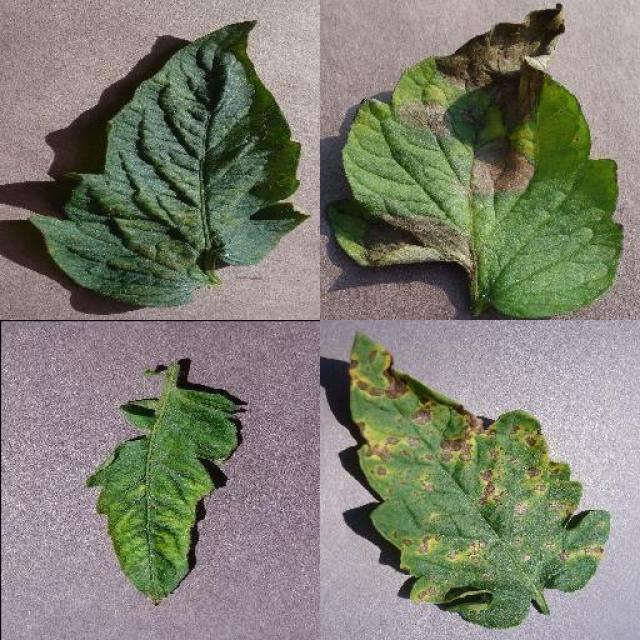Late Blight: (325, 0, 625, 320)
Septoria: (350, 330, 611, 630)
